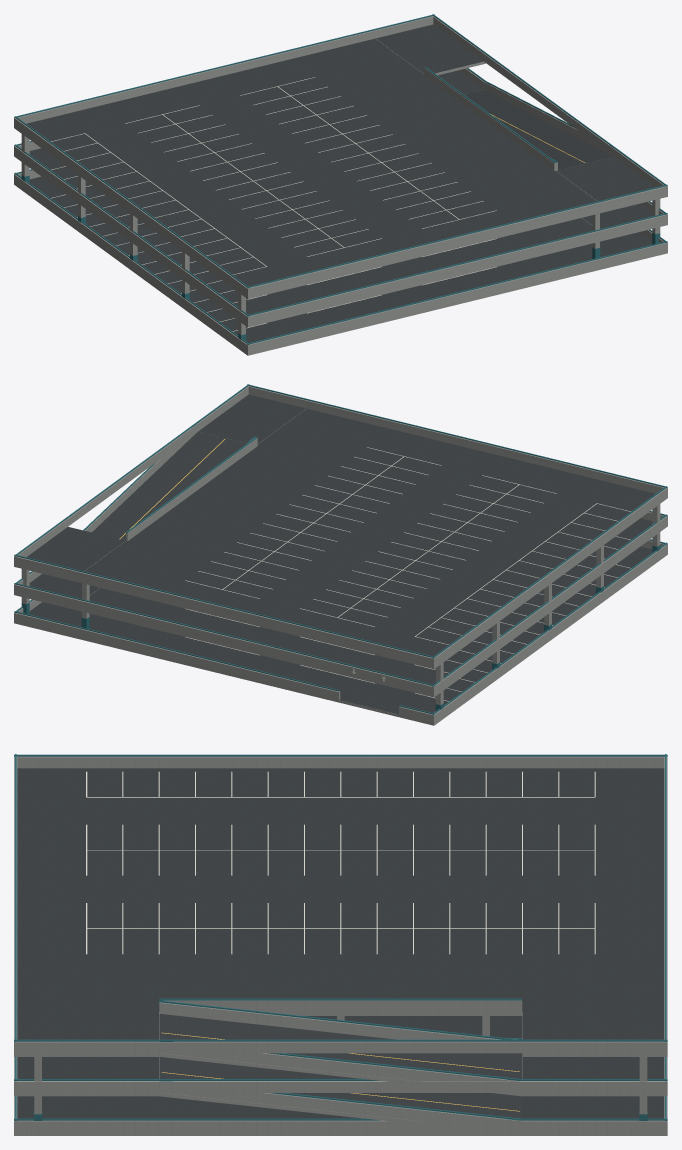
File: large_03.glb
3 views of the same model, one above another, from view 1: azimuth 30°, elevation 25°; view 2: azimuth 150°, elevation 25°; view 3: azimuth 270°, elevation 25° (orthographic). The views are drawn at different scales.
Visible parts, largest first — view 1: large_03_Asphalt, large_03_Concrete, large_03_Teal, large_03_Paint; view 2: large_03_Asphalt, large_03_Concrete, large_03_Teal, large_03_Paint; view 3: large_03_Asphalt, large_03_Concrete, large_03_Teal, large_03_Paint, large_03_Yellow.
Part boxes in pixels (x1,y1,x2,y2): large_03_Asphalt: (26,24,655,342); large_03_Concrete: (14,16,667,355); large_03_Teal: (14,14,667,344); large_03_Paint: (51,77,496,331); large_03_Asphalt: (26,394,655,714); large_03_Concrete: (14,386,667,725); large_03_Teal: (14,384,667,714); large_03_Paint: (185,447,630,701); large_03_Asphalt: (17,768,664,1118); large_03_Concrete: (14,756,667,1135); large_03_Teal: (14,754,667,1120); large_03_Paint: (86,771,595,954); large_03_Yellow: (161,1032,519,1111).
Size of the model in its own units: 56 by 8.68 by 54.02.
6 materials, 2 textured.
